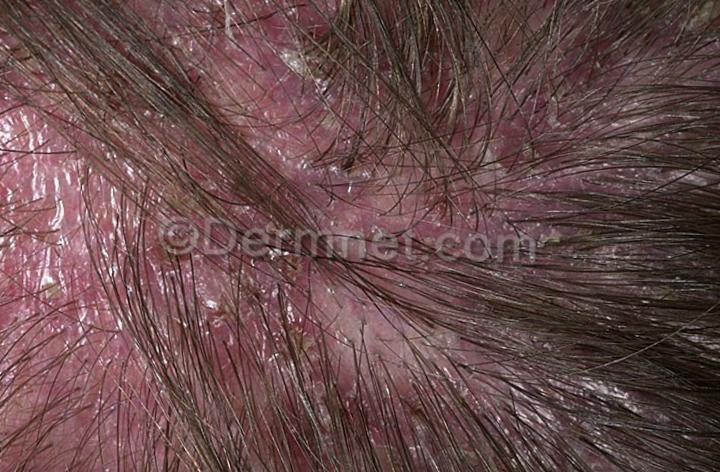Folliculitis: (222, 63, 588, 200)
